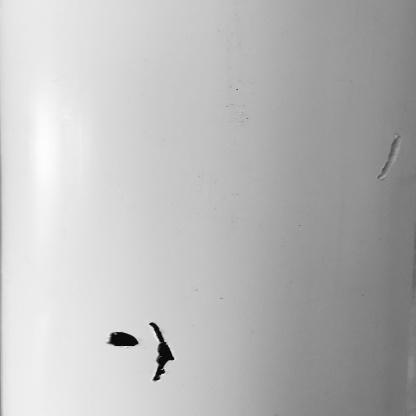kongdong: (148, 314, 180, 390), (99, 324, 145, 352)
sunshang: (373, 132, 406, 184)
